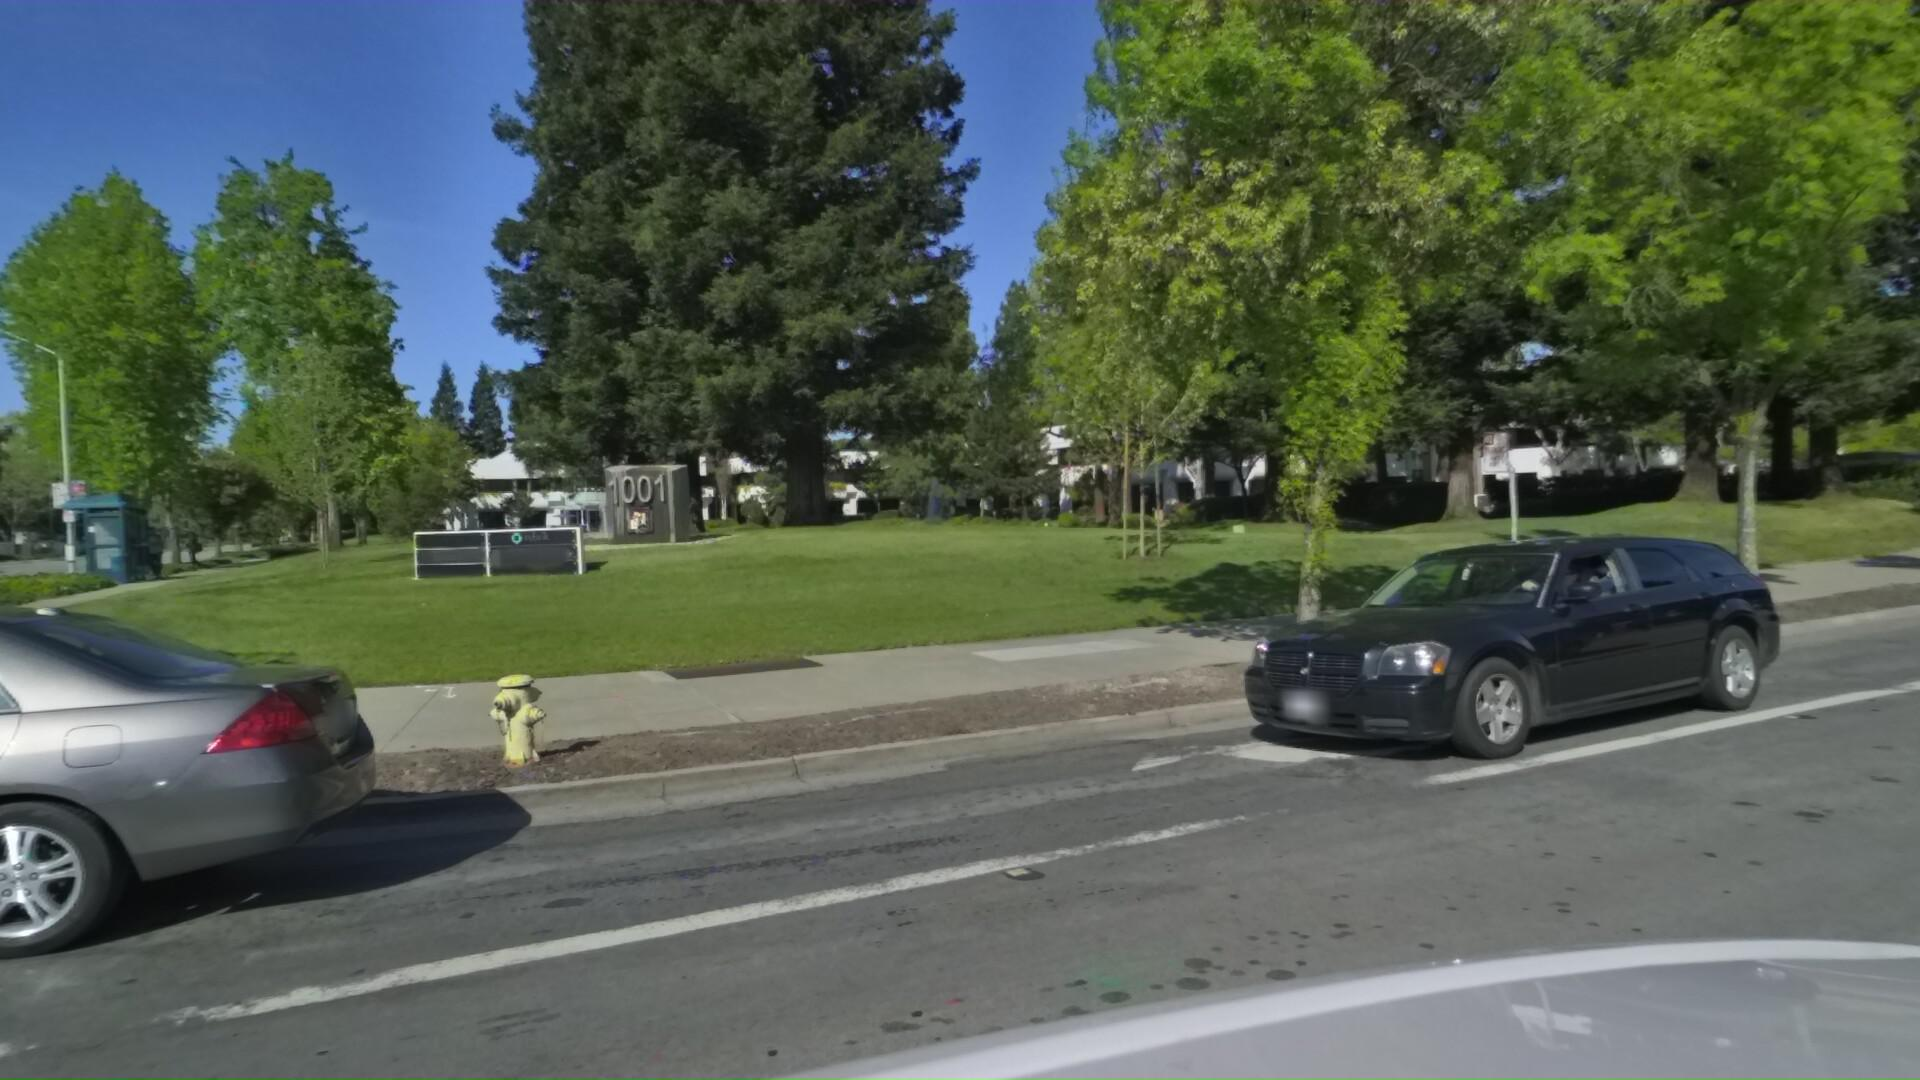car: (0, 535, 473, 1080), (1222, 504, 1817, 786)
